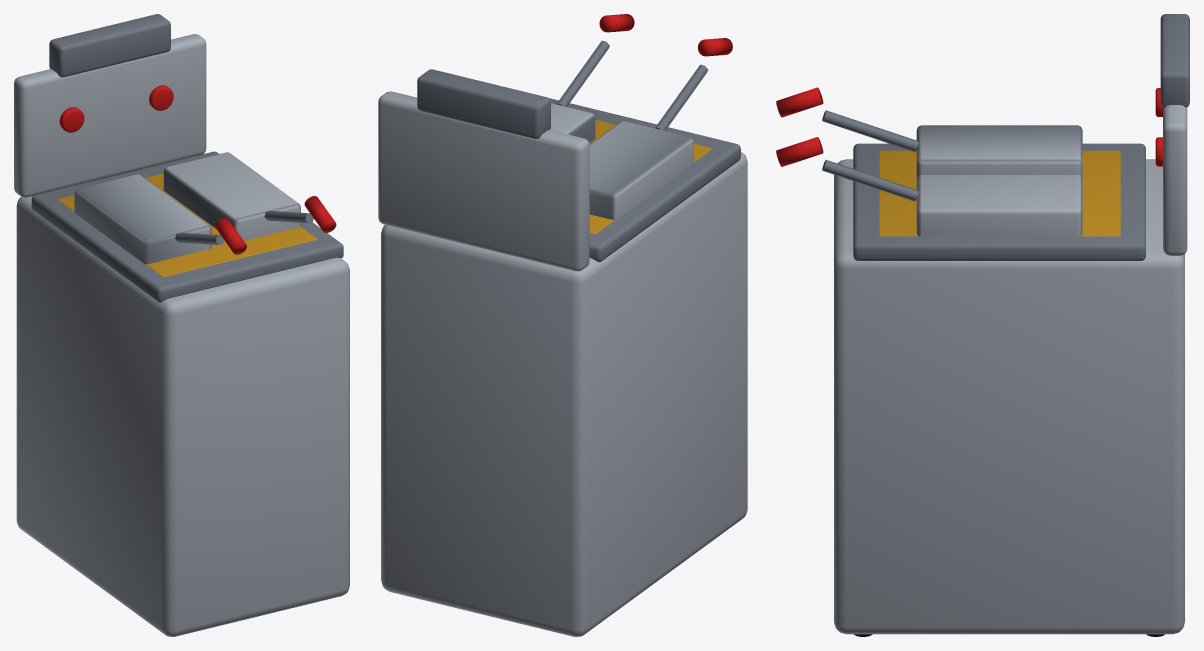
Rendered from fryer.glb.
3 renders of one model, left to right at view 1: azimuth 30°, elevation 25°; view 2: azimuth 150°, elevation 25°; view 3: azimuth 270°, elevation 25°, orthographic. The views are drawn at different scales.
Parts seen in each view (by area): view 1: fryer; view 2: fryer; view 3: fryer.
Boxes of the visible parts, x1,y1,x2,y2 form: fryer: (14, 14, 349, 636); fryer: (378, 14, 747, 636); fryer: (776, 14, 1189, 636).
Size of the model in its own units: 0.5 by 1.24 by 0.8484.
